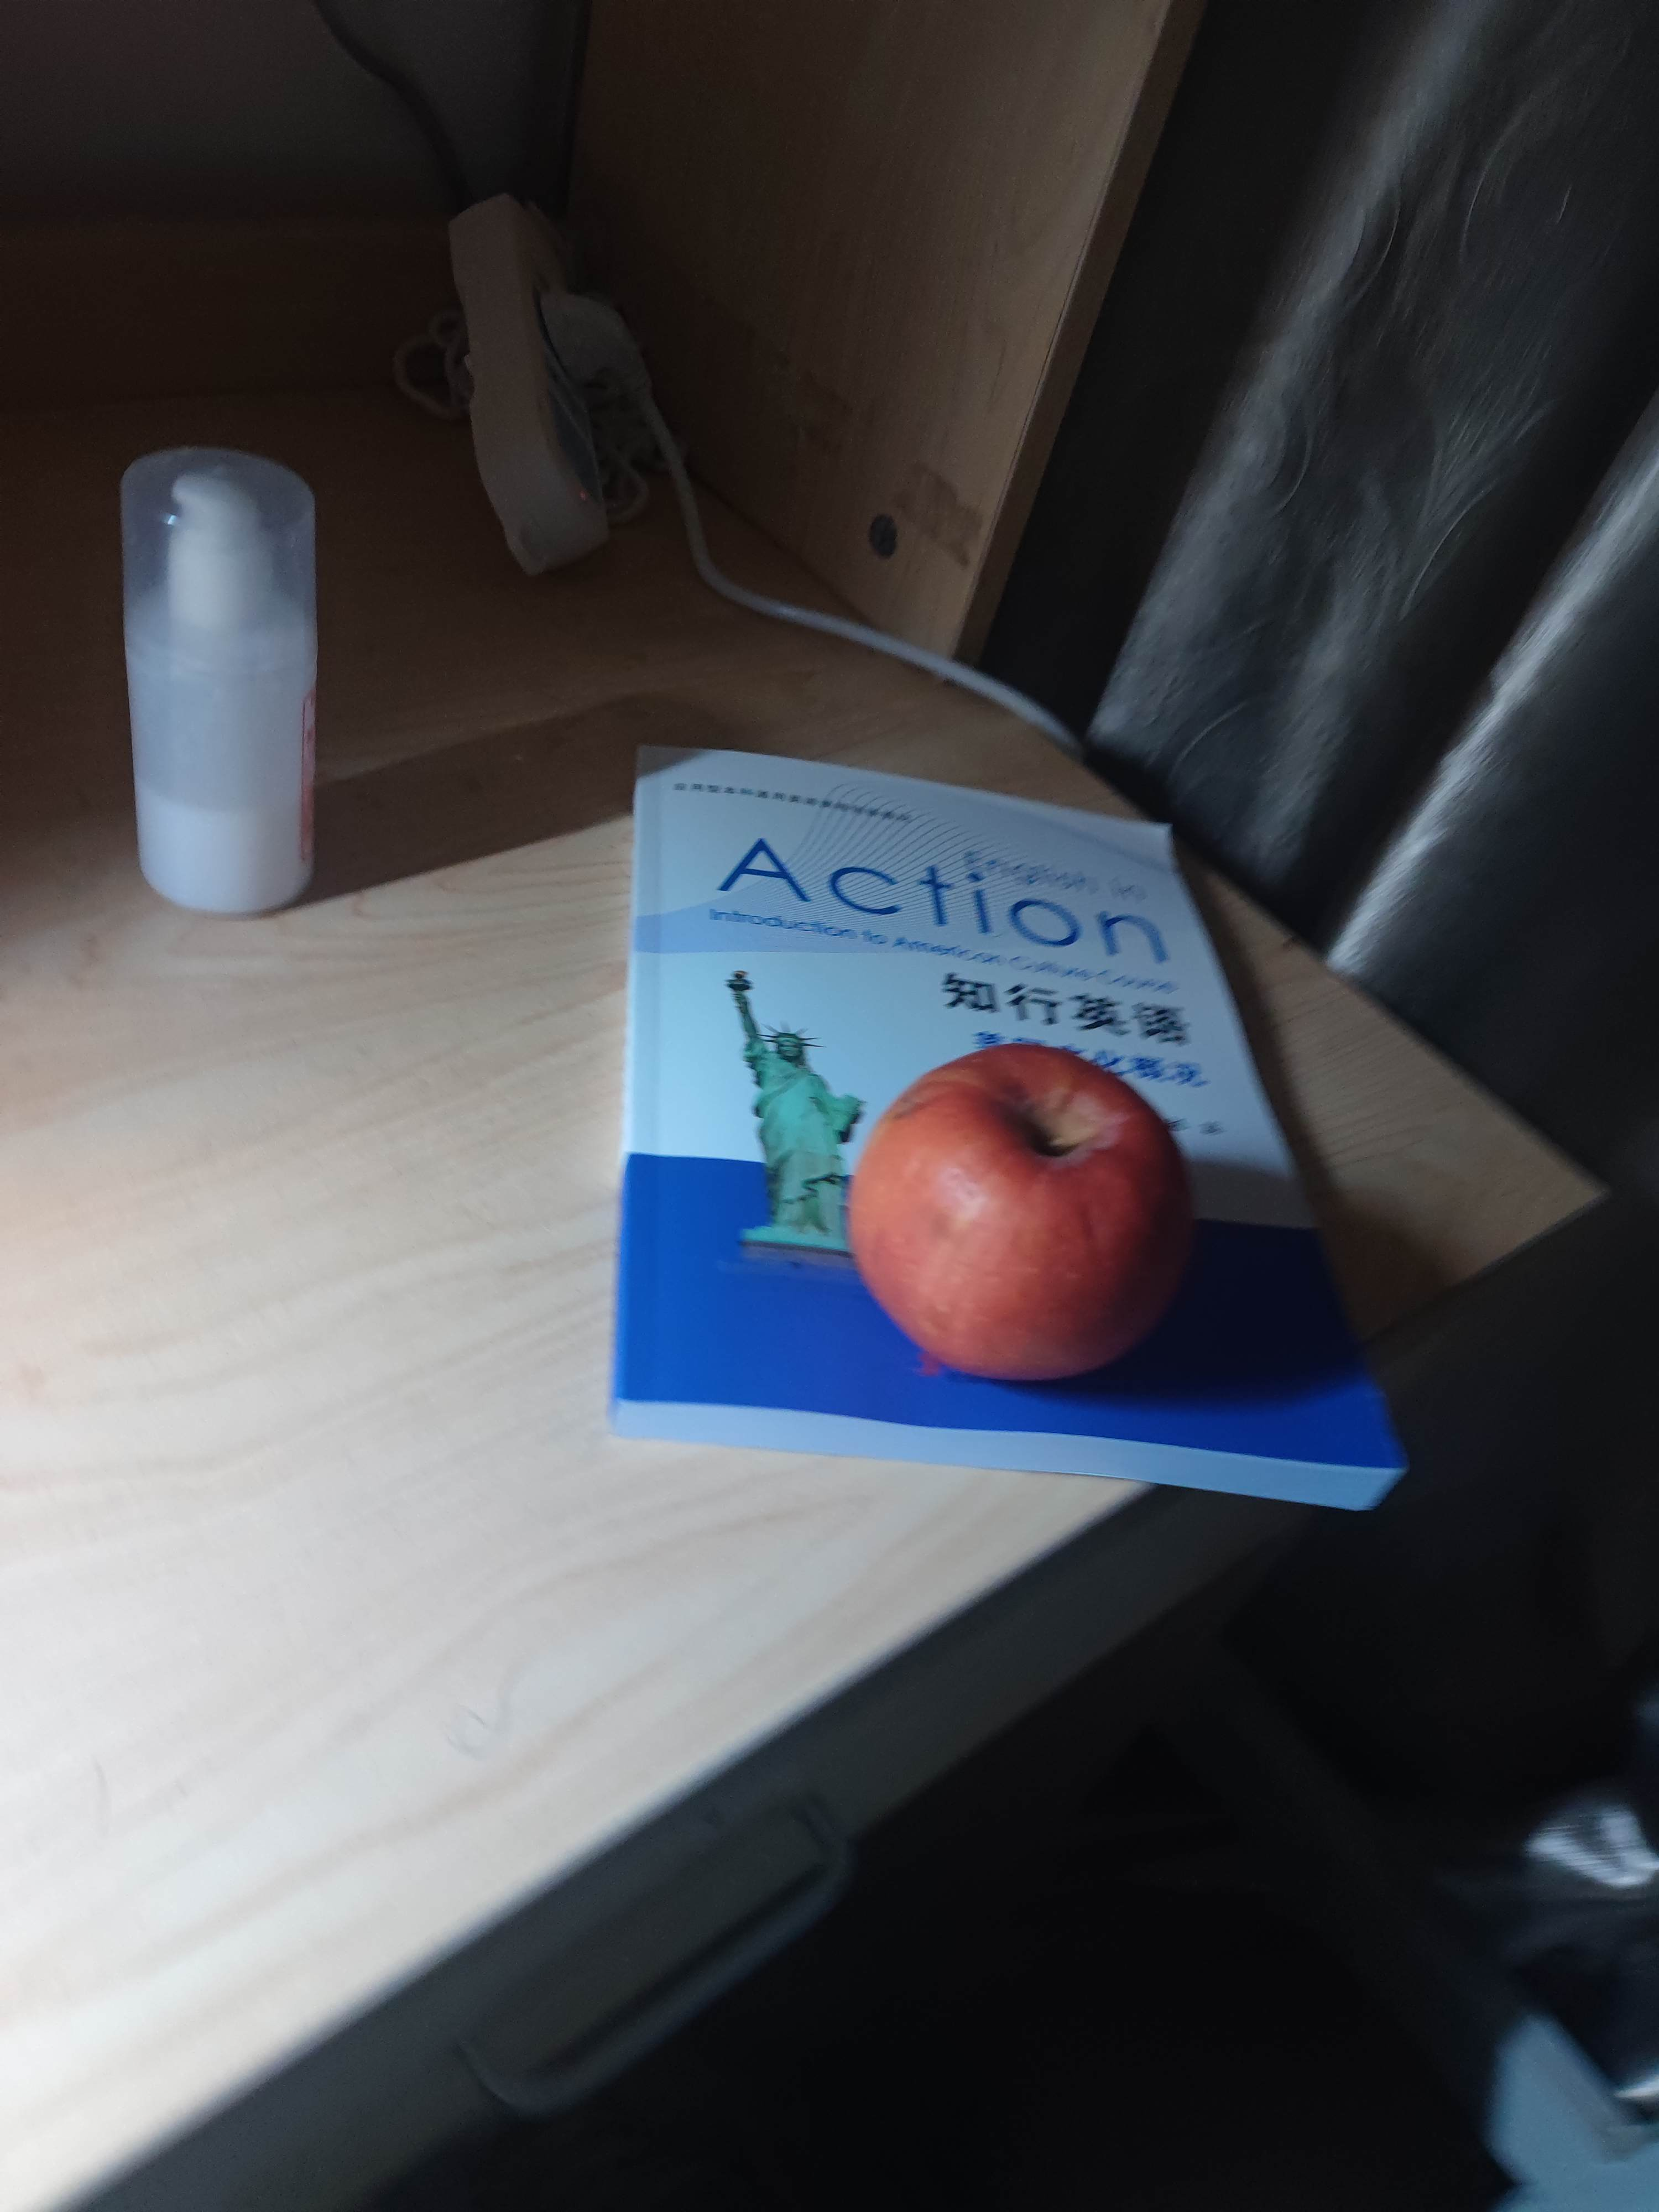apple: (847, 1042, 1194, 1399)
